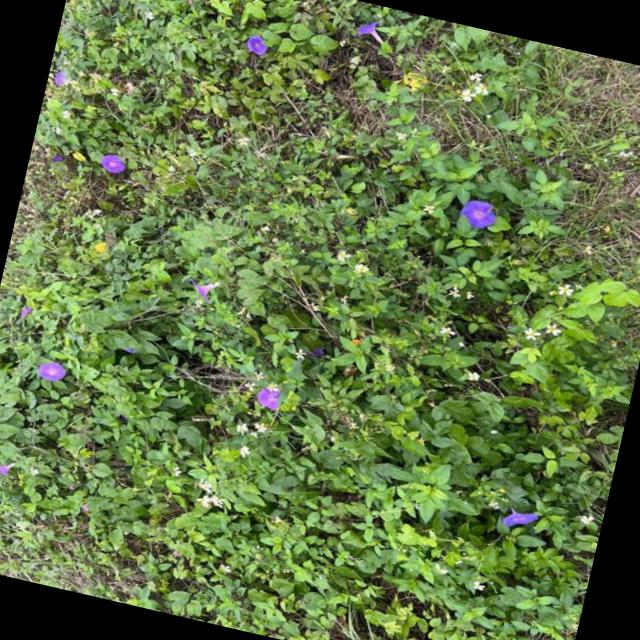ipomoea: (452, 194, 504, 238), (495, 502, 545, 537), (183, 273, 226, 311), (32, 354, 74, 390), (250, 379, 290, 416), (95, 147, 134, 180), (240, 29, 276, 63)
